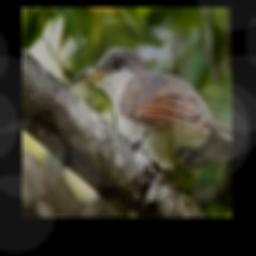Cuckoo: (71, 46, 231, 179)
